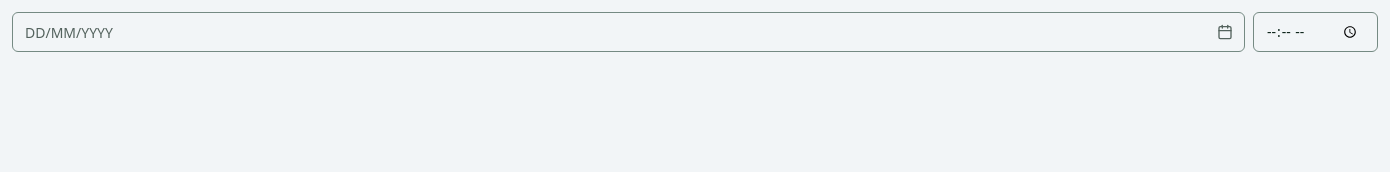
Scenario: day-first date entry › combines a day-first date and 24-hour time into a local machine value
Type "29092026" into the field with placeholder "DD/MM/YYYY" at (628, 32), box [12,12,1245,52]
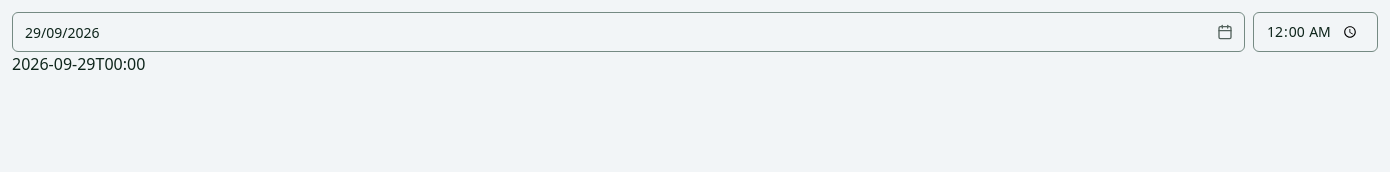
Replace the text in the time field named "Time (24-hour)" with "14:30" at (1316, 32), box [1253,12,1378,52]
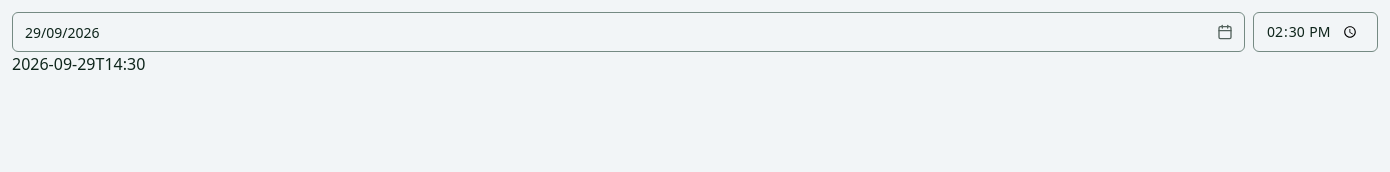
expect the text "2026-09-29T14:30" is shown: met, box [12,53,145,75]
